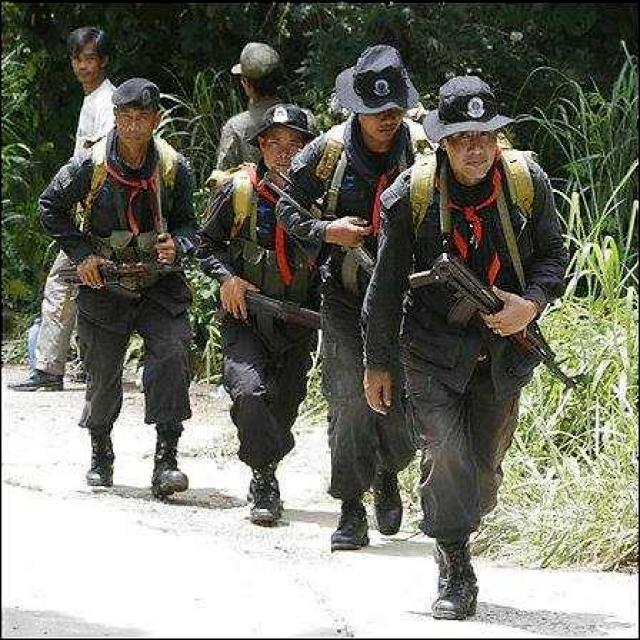ak: (408, 248, 586, 399), (260, 164, 389, 303), (46, 241, 195, 304), (214, 280, 334, 342)
